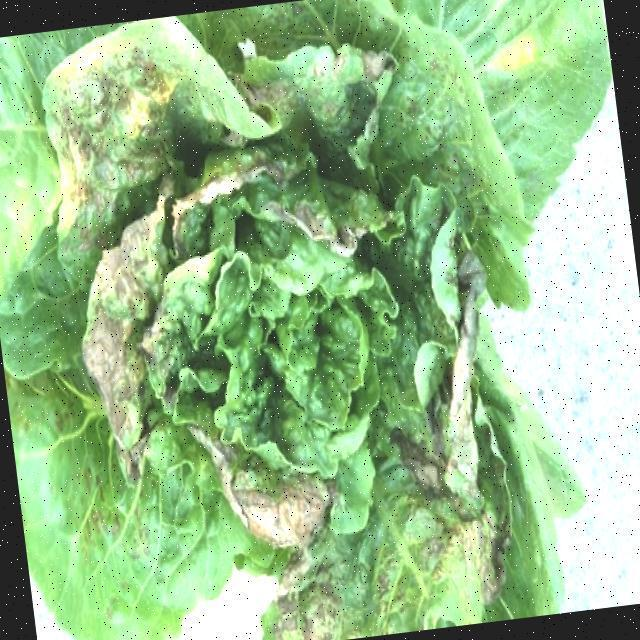Bacterial: (262, 463, 505, 640), (66, 218, 200, 479), (49, 46, 170, 207)
